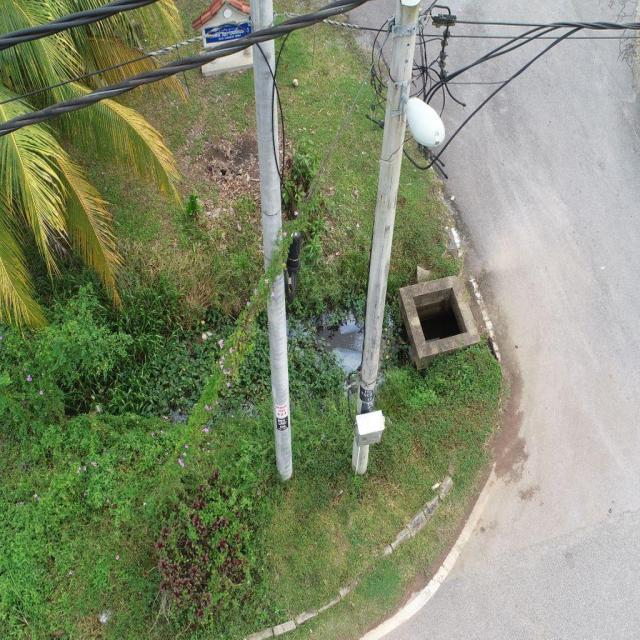light_pole: (126, 143, 337, 522)
